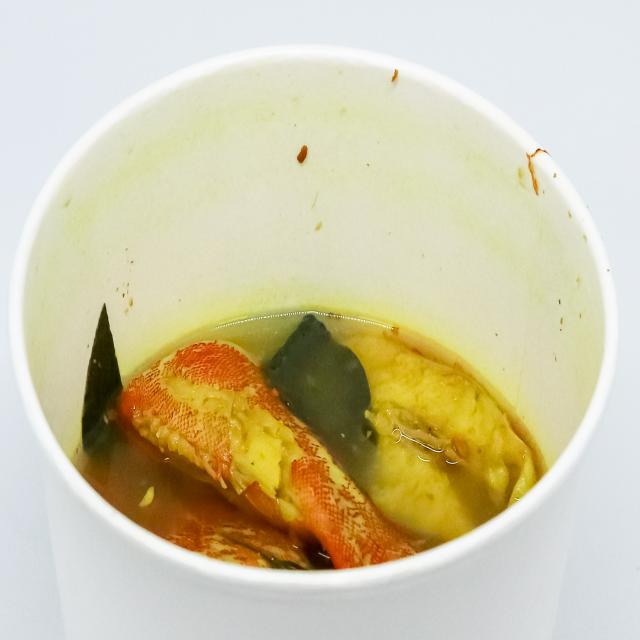Gulai-Ikan-Mas: (76, 253, 562, 575)
